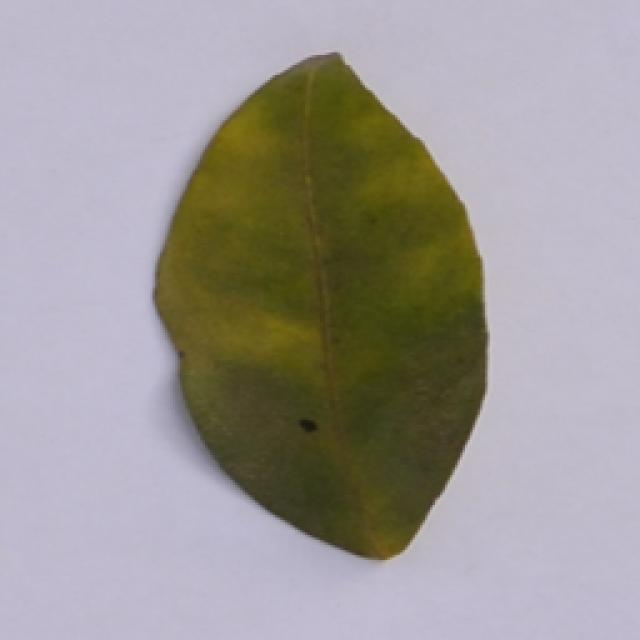greening: (140, 45, 491, 568)
